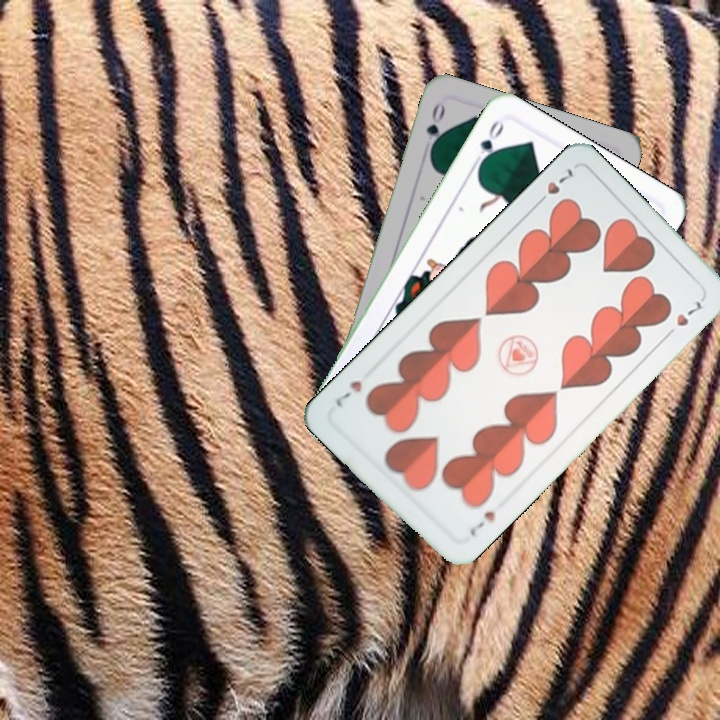GO: (468, 116, 507, 171), (422, 99, 448, 157)
H7: (531, 164, 576, 210), (466, 506, 498, 539)
